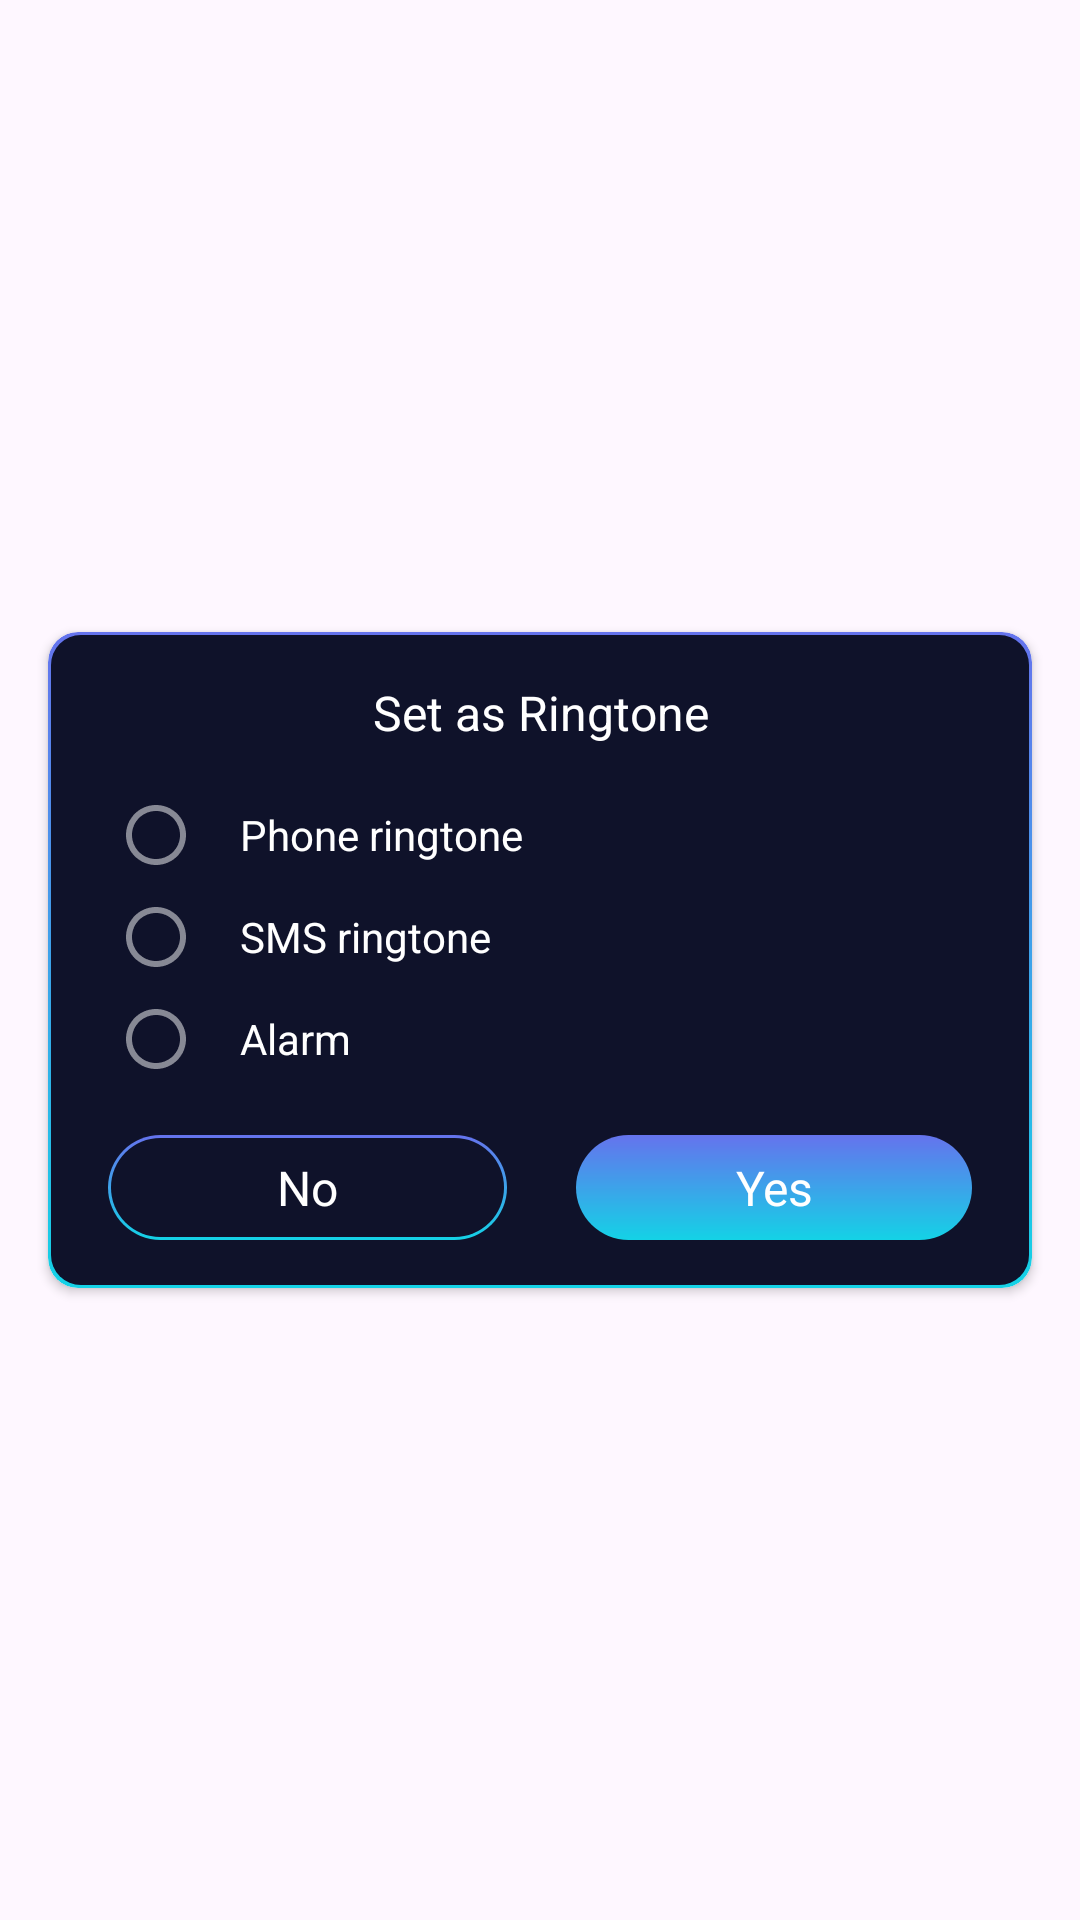

Screen size 1080x1920. Icon name, then its center in pixels as [x,y]:
radiofalse: [156,835], [156,937], [156,1039]
